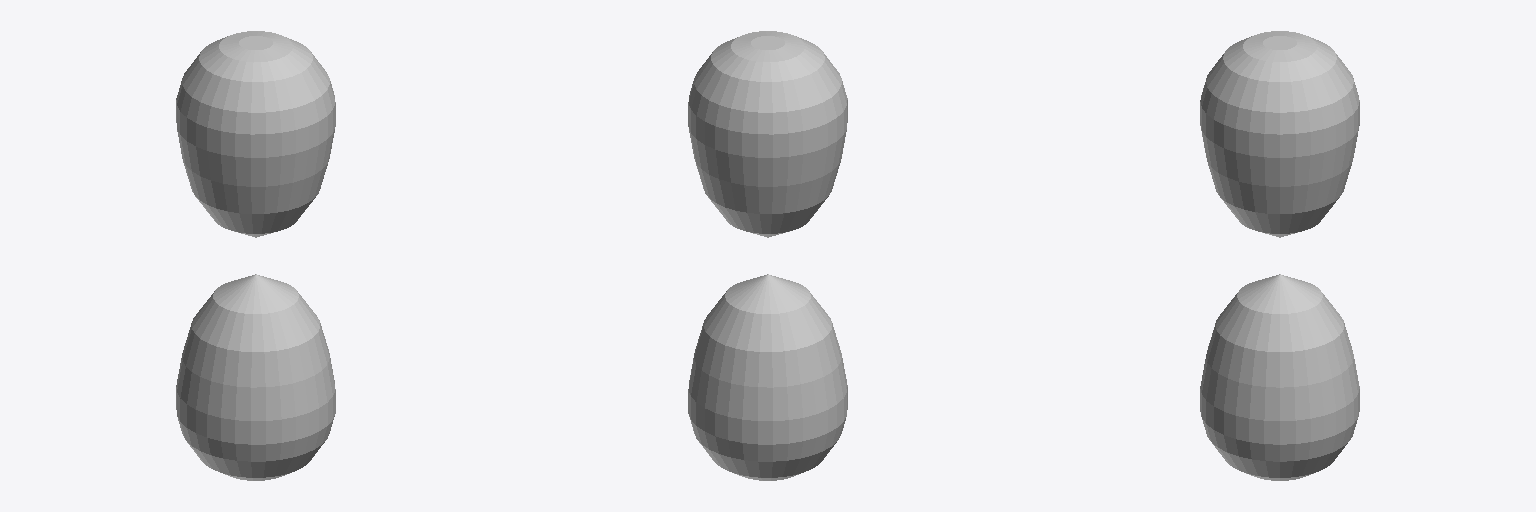
File: p orbital.obj
3 renders of one model, left to right at view 1: azimuth 30°, elevation 25°; view 2: azimuth 150°, elevation 25°; view 3: azimuth 270°, elevation 25°, orthographic.
Visible parts, largest first — view 1: Cylinder; view 2: Cylinder; view 3: Cylinder.
Boxes of the visible parts, x1=… form: Cylinder: x1=176, y1=31, x2=335, y2=480; Cylinder: x1=688, y1=31, x2=847, y2=480; Cylinder: x1=1200, y1=31, x2=1359, y2=480.
Size of the model in its own units: 3.64 by 10.72 by 3.64.